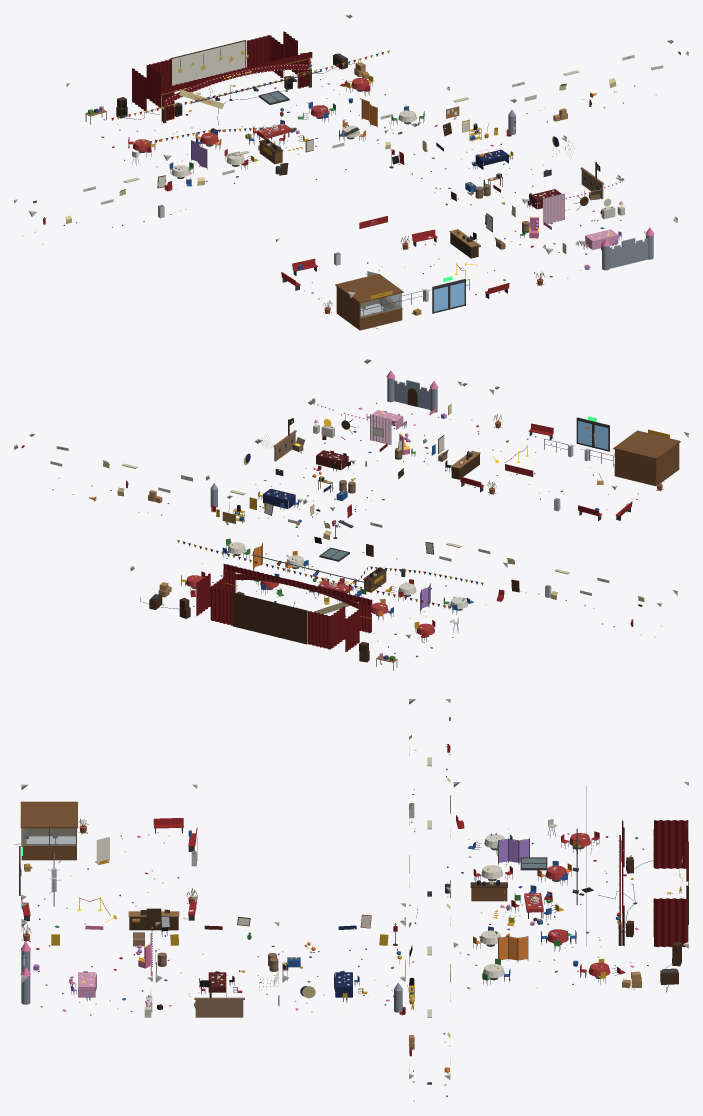
The model's file is v2_publico.glb.
3 renders of one model, top to bottom at view 1: azimuth 30°, elevation 25°; view 2: azimuth 150°, elevation 25°; view 3: azimuth 270°, elevation 25°, orthographic. The views are drawn at different scales.
Parts seen in each view (by area): view 1: Recepcao_Bilheteria, Salao, Arte__painel_palco, Palco_Cortina_Fundo, Palco_Cortina_Lateral_Esq, Recepcao, Princesas_Castelo, Palco_Letreiro_Arco, Palco_Sanefa, Palco_Cortina_Lateral_Dir, Recepcao_Bilheteria_Vidro, Princesas_Tule; view 2: Recepcao_Bilheteria, Palco_Painel_Moldura, Salao, Palco_Cortina_Fundo, Palco_Cortina_Lateral_Esq, Palco_Sanefa, Recepcao, Princesas_Castelo, Palco_Cortina_Lateral_Dir, Princesas_Tule, Estrelas_Mesa; view 3: Salao, Recepcao_Bilheteria, Palco_Cortina_Lateral_Dir, Palco_Cortina_Lateral_Esq, Piratas_Navio_Fachada, Recepcao_Bilheteria_Vidro, Recepcao, Salao_Biombo_01_Tecido, Salao_Biombo_02_Tecido.
Boxes of the visible parts, box(x1,y1,x2,y2) form: Recepcao_Bilheteria: box(335, 274, 403, 330); Salao: box(66, 14, 449, 186); Arte__painel_palco: box(172, 41, 245, 90); Palco_Cortina_Fundo: box(148, 35, 270, 88); Palco_Cortina_Lateral_Esq: box(132, 65, 161, 110); Recepcao: box(275, 191, 545, 313); Princesas_Castelo: box(609, 238, 648, 268); Palco_Letreiro_Arco: box(163, 64, 311, 104); Palco_Sanefa: box(161, 52, 312, 94); Palco_Cortina_Lateral_Dir: box(270, 31, 297, 77); Recepcao_Bilheteria_Vidro: box(360, 293, 401, 317); Princesas_Tule: box(543, 193, 564, 224); Recepcao_Bilheteria: box(613, 430, 680, 486); Palco_Painel_Moldura: box(232, 592, 307, 644); Salao: box(130, 495, 507, 662); Palco_Cortina_Fundo: box(211, 587, 330, 649); Palco_Cortina_Lateral_Esq: box(330, 606, 359, 651); Palco_Sanefa: box(223, 563, 372, 605); Recepcao: box(423, 386, 688, 516); Princesas_Castelo: box(394, 380, 430, 409); Palco_Cortina_Lateral_Dir: box(196, 573, 224, 619); Princesas_Tule: box(370, 414, 391, 444); Estrelas_Mesa: box(263, 489, 295, 508); Salao: box(453, 782, 688, 980); Recepcao_Bilheteria: box(20, 801, 77, 860); Palco_Cortina_Lateral_Dir: box(654, 898, 688, 947); Palco_Cortina_Lateral_Esq: box(654, 820, 688, 868); Piratas_Navio_Fachada: box(194, 997, 244, 1017); Recepcao_Bilheteria_Vidro: box(22, 828, 76, 845); Recepcao: box(21, 784, 197, 941); Salao_Biombo_01_Tecido: box(498, 839, 529, 862); Salao_Biombo_02_Tecido: box(498, 937, 527, 960).
Size of what is drawn, in the model's own units: 59.8 by 3.89 by 45.3.
